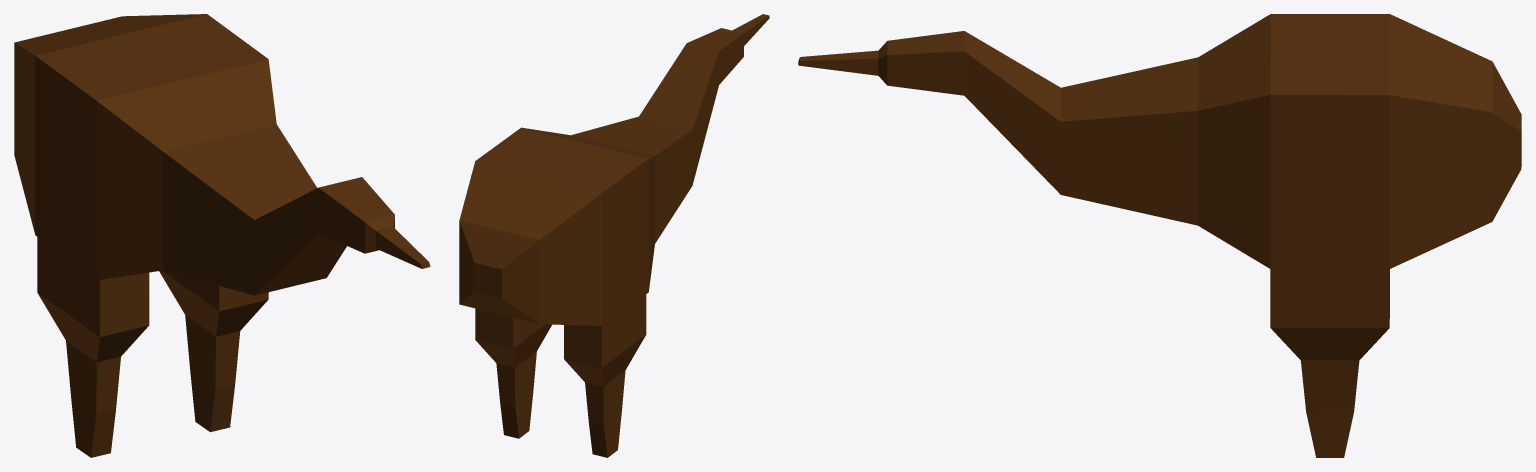
The model's file is faijneiunfsieunfieusnfieusnfiuesniuefnie3.fbx.
3 renders of one model, left to right at view 1: azimuth 30°, elevation 25°; view 2: azimuth 150°, elevation 25°; view 3: azimuth 270°, elevation 25°, orthographic. The views are drawn at different scales.
Visible parts, largest first — view 1: Cube; view 2: Cube; view 3: Cube.
Part boxes in pixels (x1,y1,x2,y2): Cube: (14,14,430,457); Cube: (459,14,769,457); Cube: (798,14,1521,457).
Size of the model in its own units: 200 by 440 by 754.
